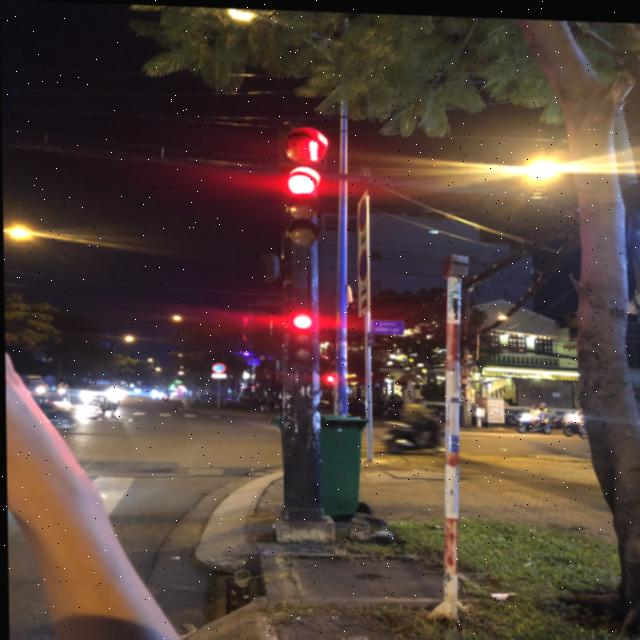Red: (283, 162, 320, 254), (286, 305, 319, 372)
